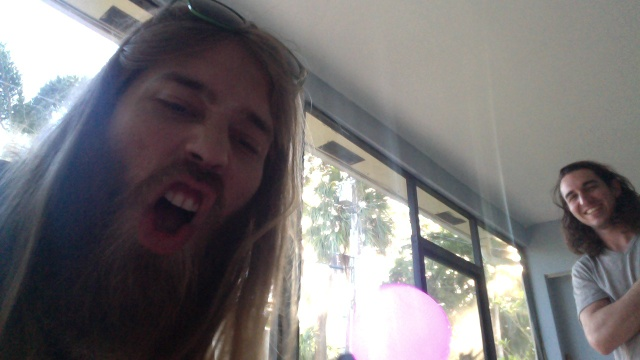wand: (353, 284, 449, 360)
